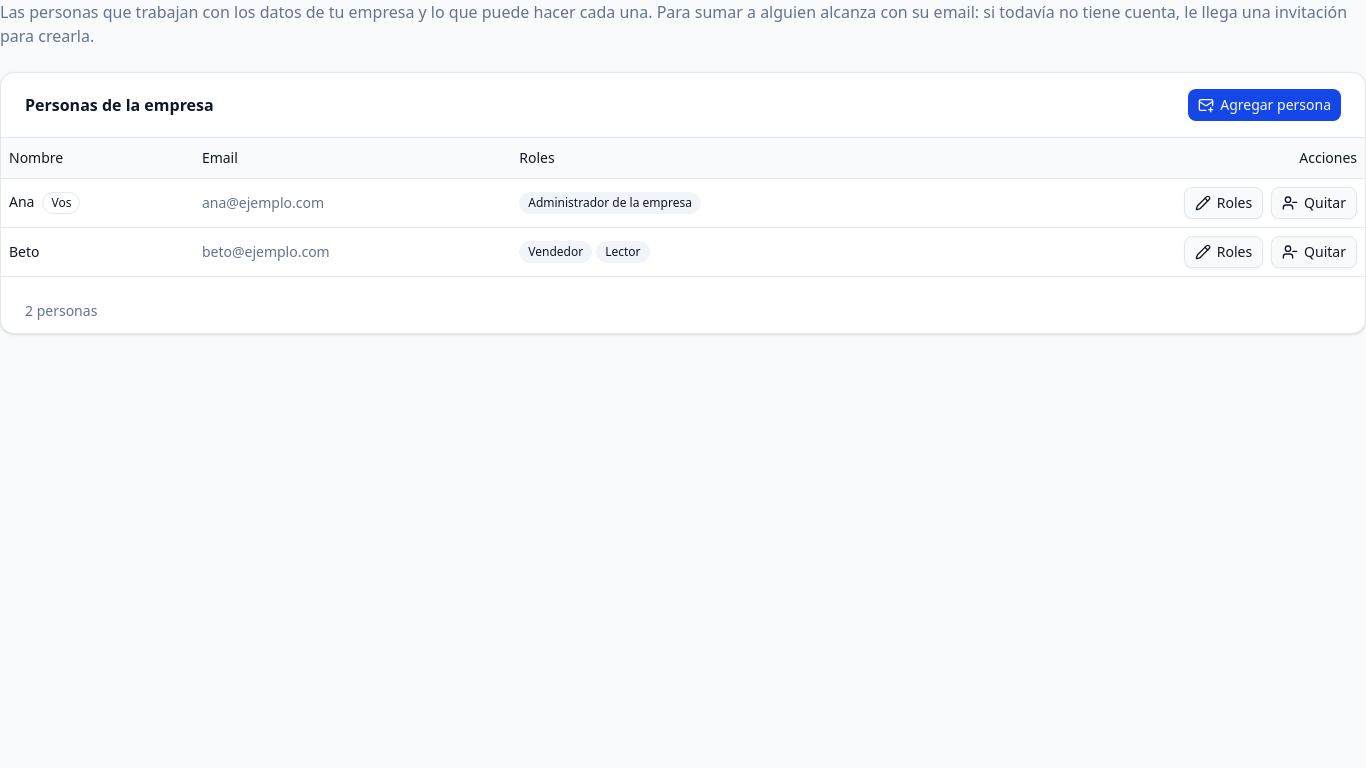
Test: Equipo › quita a una persona después de confirmar
Click the button with aria-label "Quitar a Beto".
click(1314, 252)  # box [1271, 236, 1357, 268]
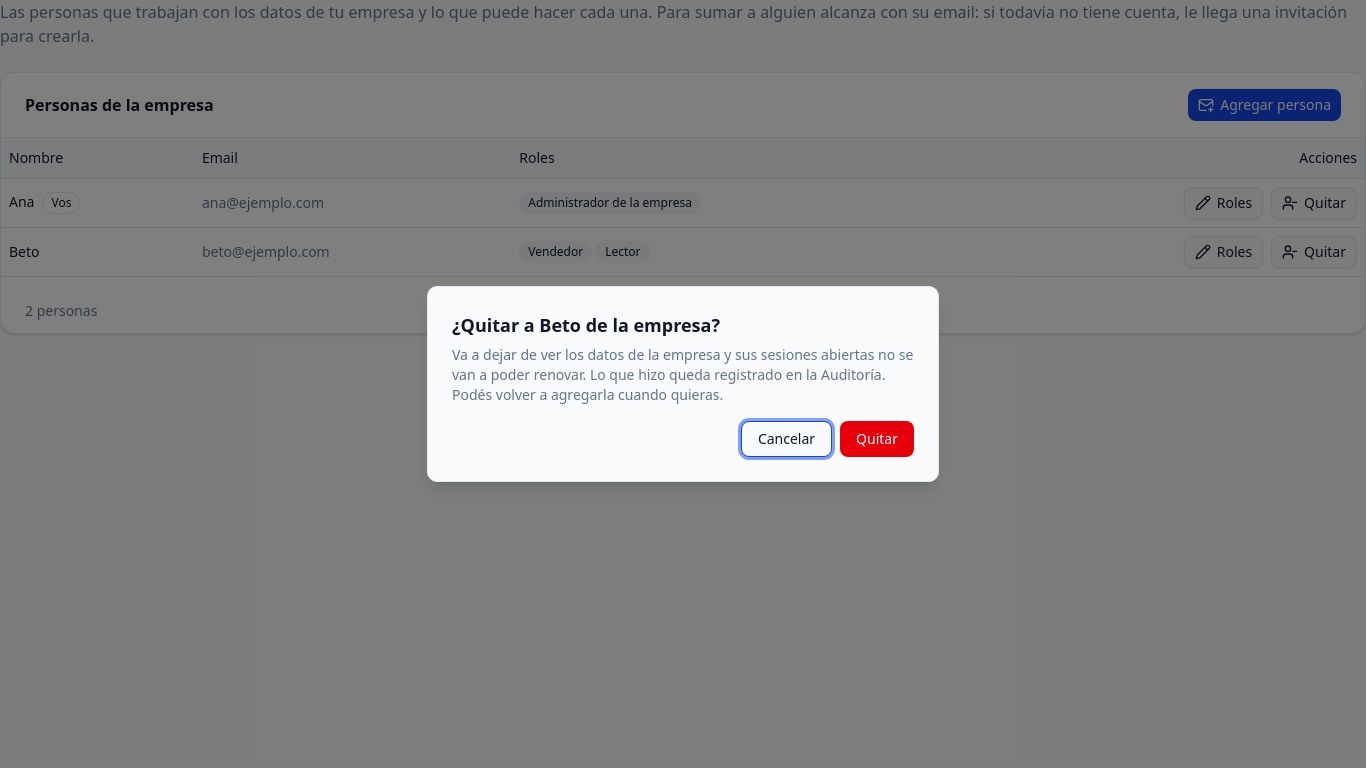
Result: the heading "¿Quitar a Beto de la empresa?" is shown at [452, 311, 720, 339]
Click the button "Quitar".
click(877, 439)  # box [840, 421, 914, 457]
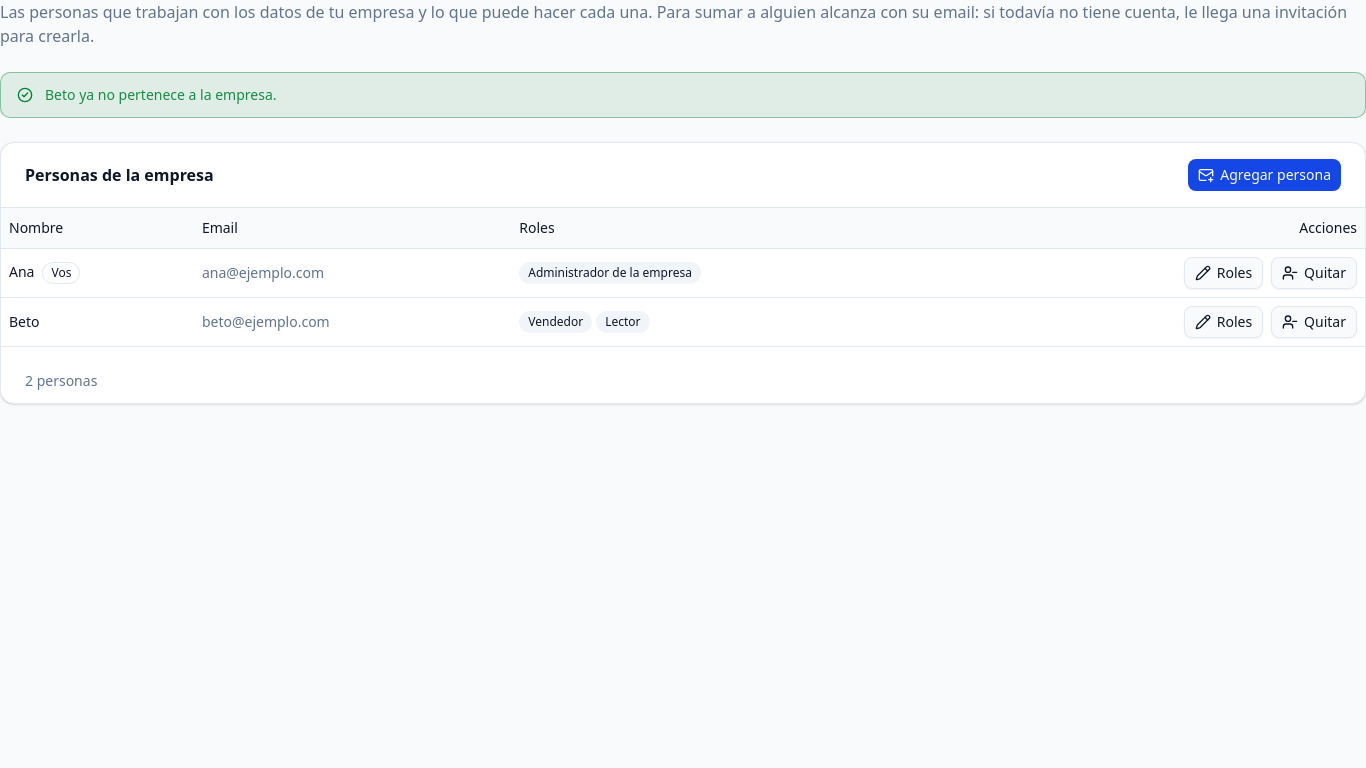
Result: the text "Beto ya no pertenece a la empresa." is shown at [45, 85, 276, 104]
